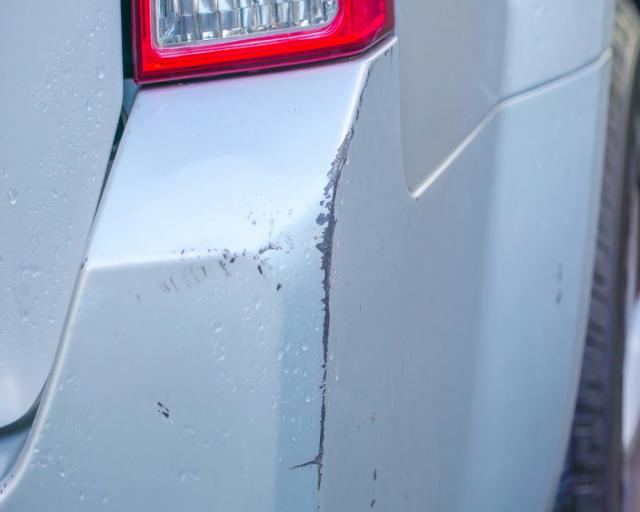scratch: (152, 61, 373, 501)
